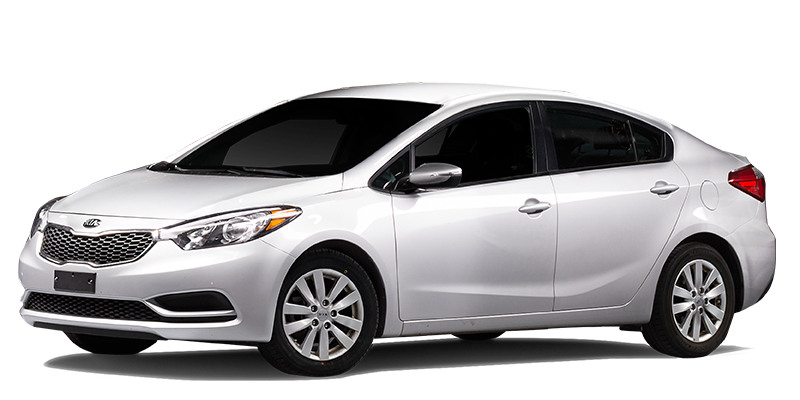car: (20, 73, 793, 398)
